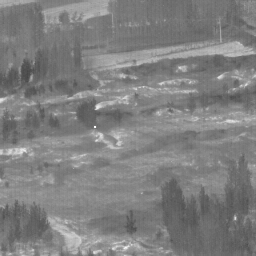aircraft: (94, 126, 96, 128)
